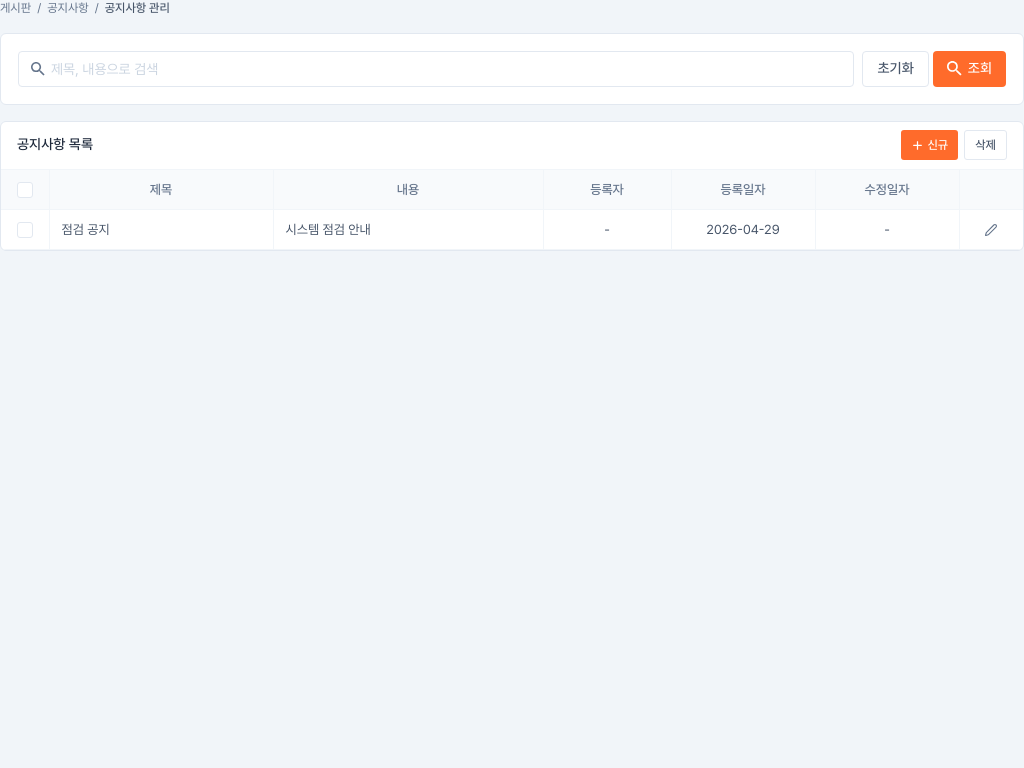
Test: NoticeManagePage › allows selecting and entering edit mode even when sysId is missing from the search response
Expected: the text "점검 공지" is shown, [49,210,273,250]
Expected: the button named "점검 공지 수정" is enabled, [976,214,1006,244]
Click the checkbox next to "점검 공지": (25, 230) [17,222,33,238]
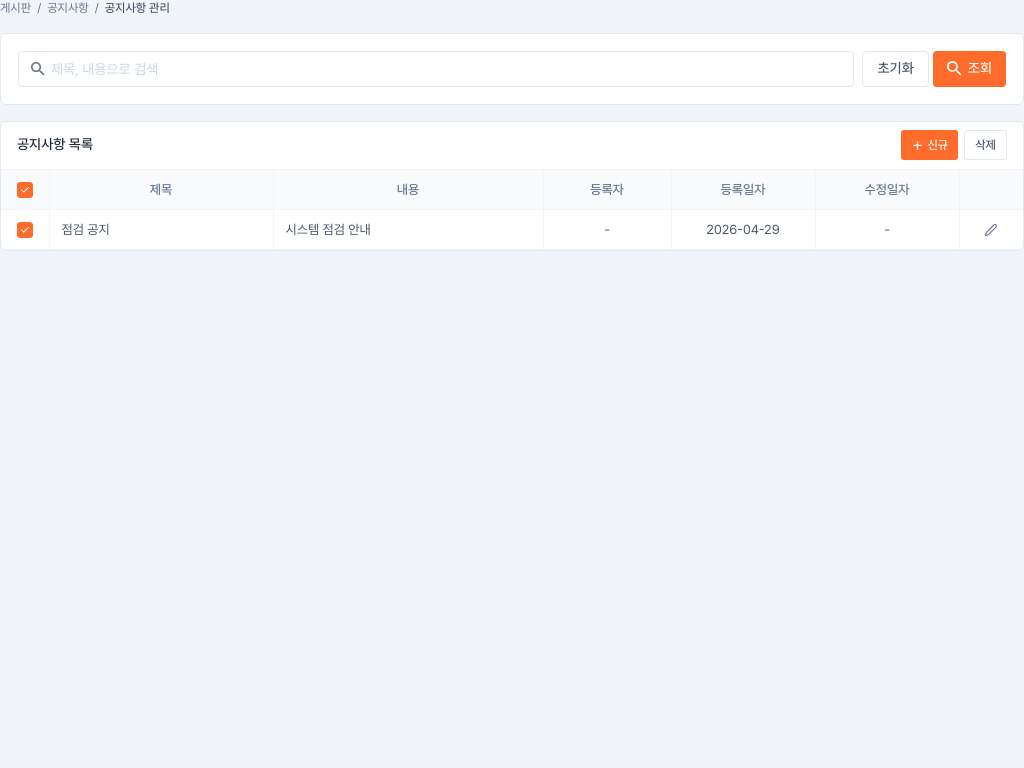
Result: the checkbox next to "점검 공지" is checked at [17,222,33,238]
Click the button named "점검 공지 수정": (991, 230) [976,214,1006,244]
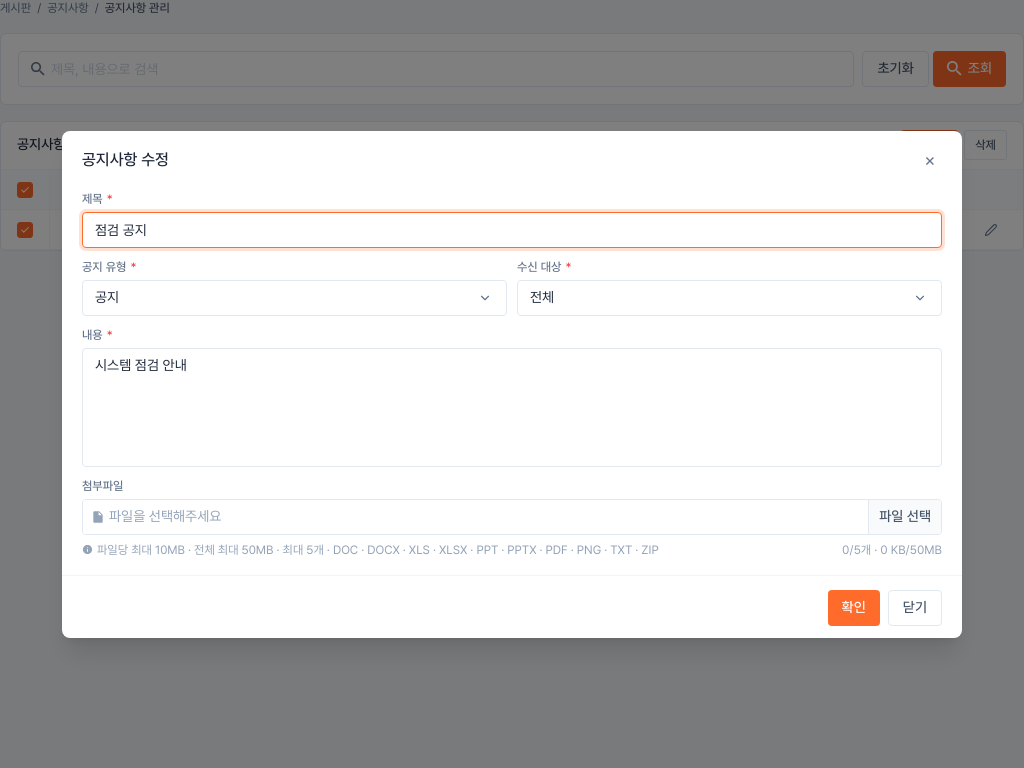
Result: the dialog "공지사항 수정" is shown at [62,130,962,638]
